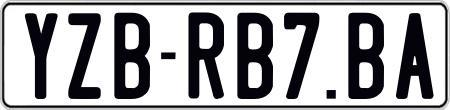7: (284, 11, 319, 103)
A: (394, 12, 433, 103)
B: (112, 10, 154, 101), (235, 13, 277, 100), (347, 11, 389, 97)
R: (187, 10, 225, 101)
Y: (25, 11, 61, 99)
Z: (68, 13, 101, 100)
